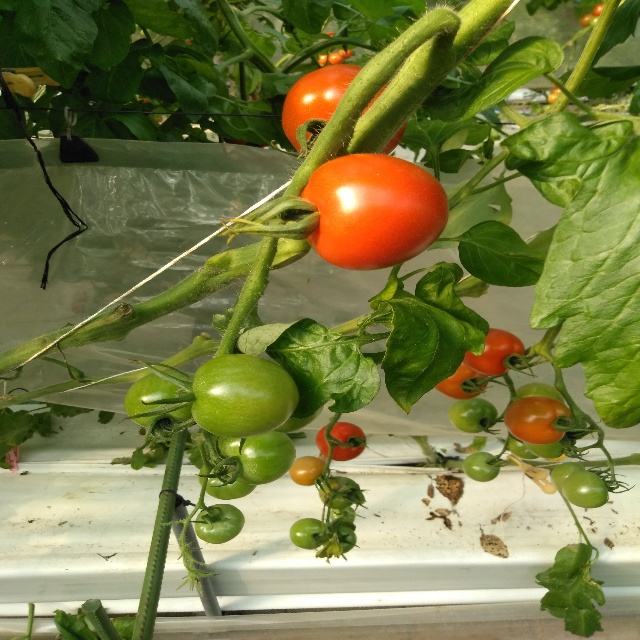l_fully_ripened: (296, 153, 450, 270), (281, 63, 408, 166), (463, 328, 525, 377), (315, 422, 367, 461)
l_green: (190, 353, 298, 438), (218, 428, 296, 485), (123, 371, 196, 429), (198, 457, 258, 500), (194, 503, 246, 544), (561, 470, 609, 508), (449, 398, 498, 433), (319, 476, 359, 510), (290, 518, 327, 550), (512, 383, 565, 405), (462, 452, 500, 482), (550, 461, 586, 491), (323, 524, 356, 554), (329, 507, 355, 524)
l_half_ripened: (504, 396, 572, 445), (434, 361, 490, 400), (288, 456, 328, 486)
